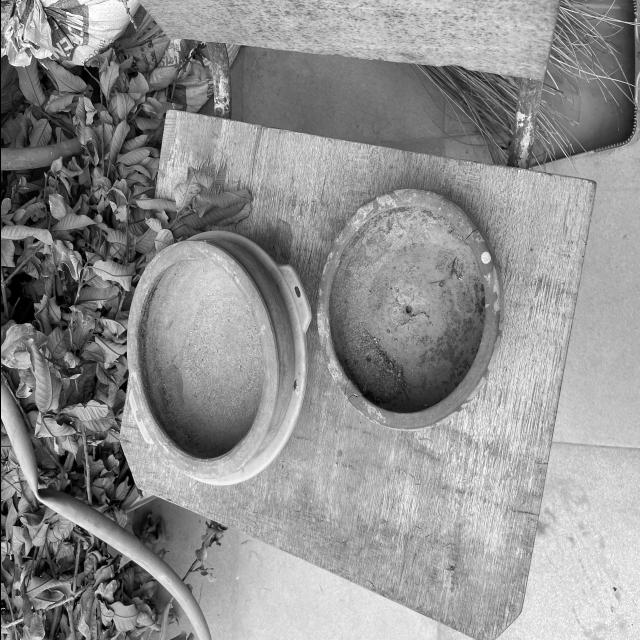Breeding Place: (314, 188, 500, 424), (120, 230, 280, 476), (507, 0, 636, 186)
